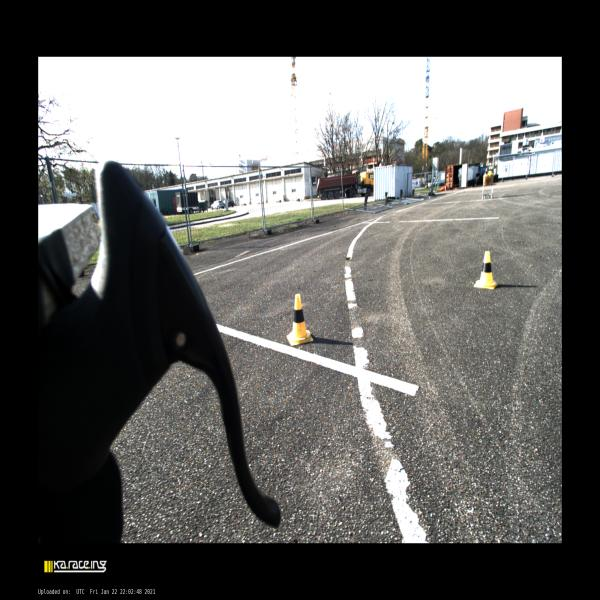yellow_cone: (287, 294, 313, 345), (474, 251, 497, 289), (483, 168, 488, 176), (488, 166, 491, 174), (490, 167, 493, 174)
